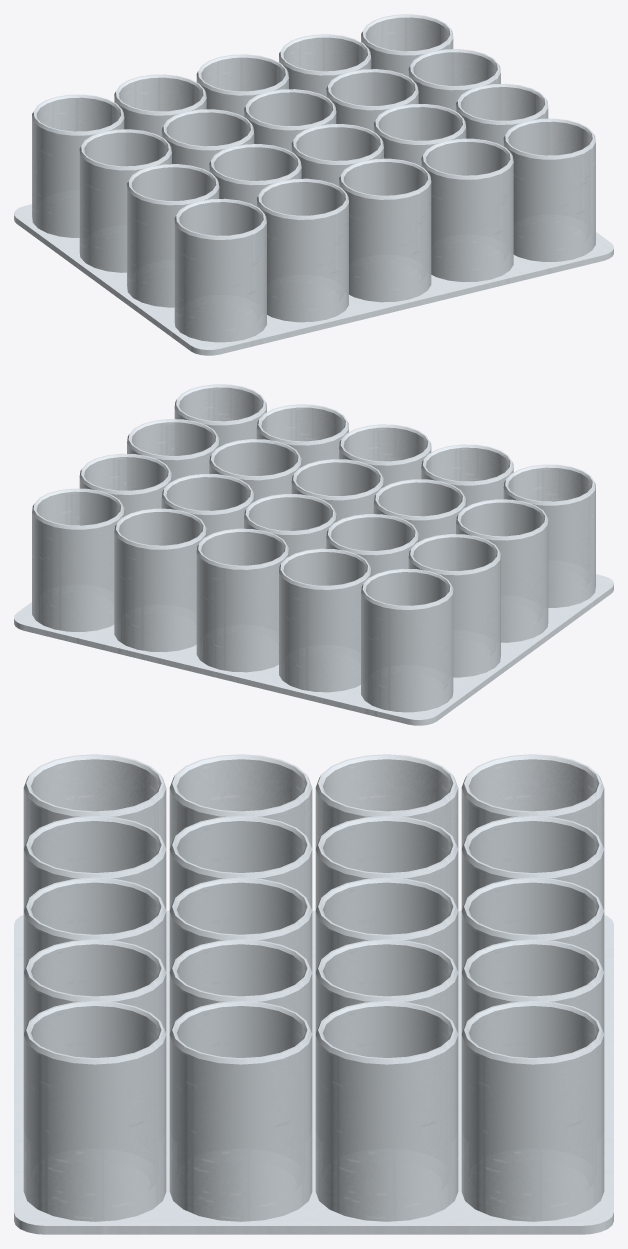
File: 01_Empty_Lunar_Growth Plants_Tubes.glb
3 views of the same model, one above another, from view 1: azimuth 30°, elevation 25°; view 2: azimuth 150°, elevation 25°; view 3: azimuth 270°, elevation 25° (orthographic). The views are drawn at different scales.
Visible parts, largest first — view 1: Transparent_Tubes; view 2: Transparent_Tubes; view 3: Transparent_Tubes.
Part boxes in pixels (x1,y1,x2,y2): Transparent_Tubes: [14, 14, 613, 355]; Transparent_Tubes: [14, 384, 613, 725]; Transparent_Tubes: [14, 754, 613, 1234].
Bounding box in the file's own units: 0.092 × 0.0232 × 0.074.
Materials: 1 (1 with a texture image).
